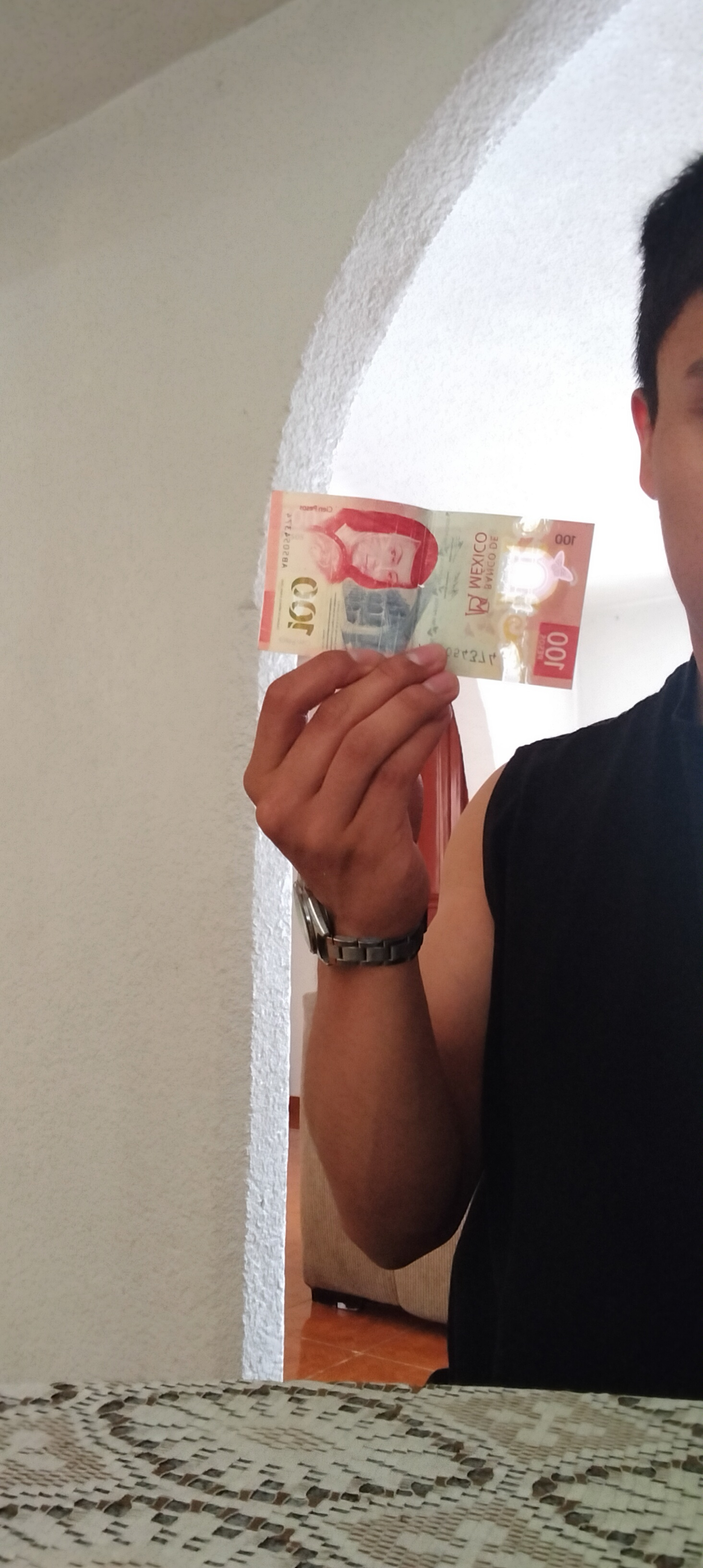billetes: (234, 474, 635, 686)
